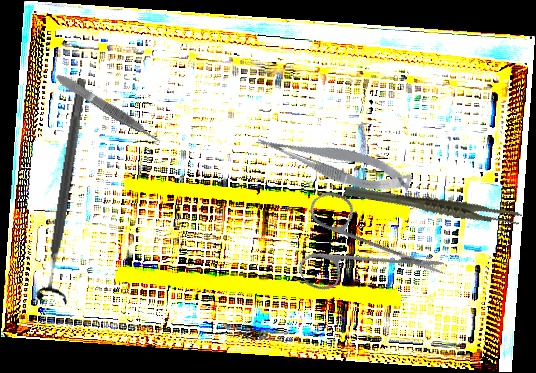Fixation Ring: (32, 76, 100, 305)
Iris Scissors: (270, 159, 449, 338)
Micro Scissor: (253, 114, 415, 208)
Tissue Forceps: (343, 153, 523, 256), (53, 70, 164, 148)
